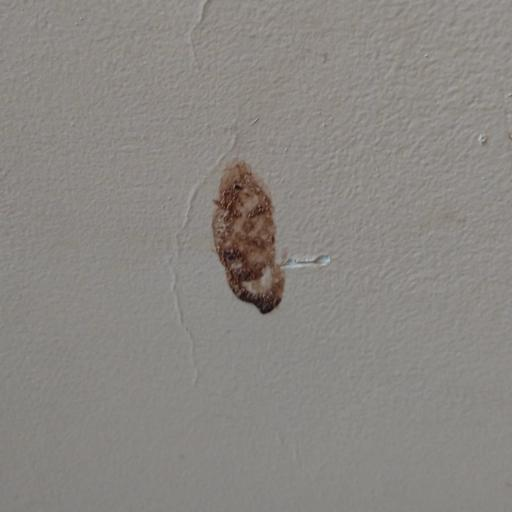stain: (191, 136, 327, 354)
